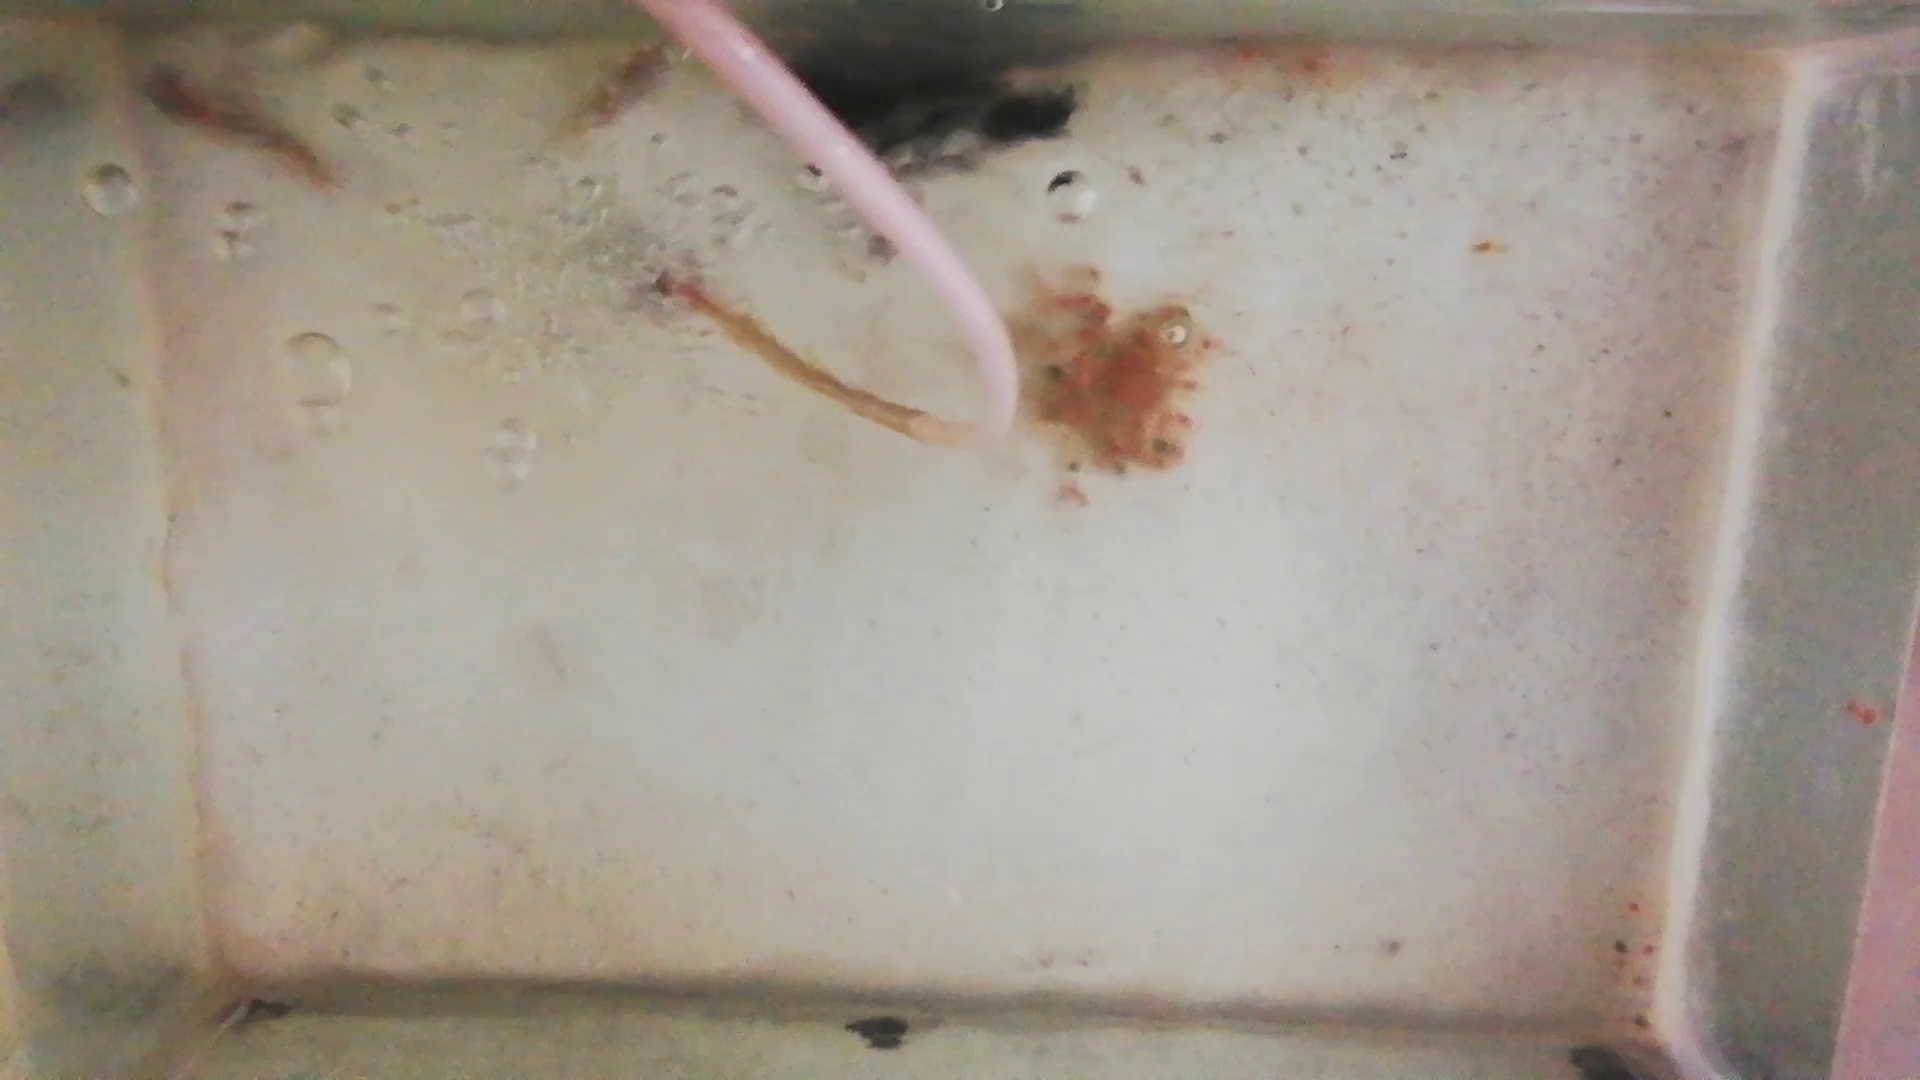fish: (137, 62, 327, 175), (553, 42, 666, 133)
